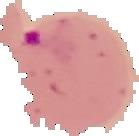parasitized: (21, 10, 137, 126), (21, 24, 61, 64)
